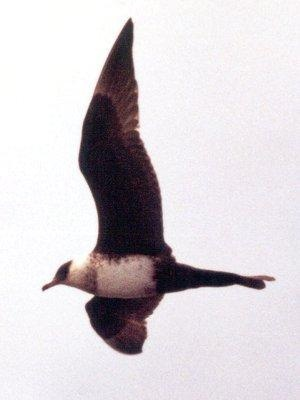bird: (40, 12, 272, 356)
